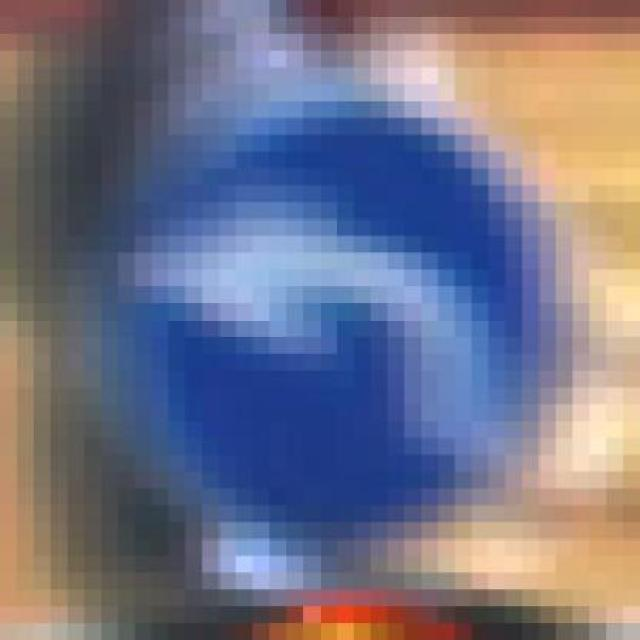Turn left ahead: (118, 101, 573, 556)
